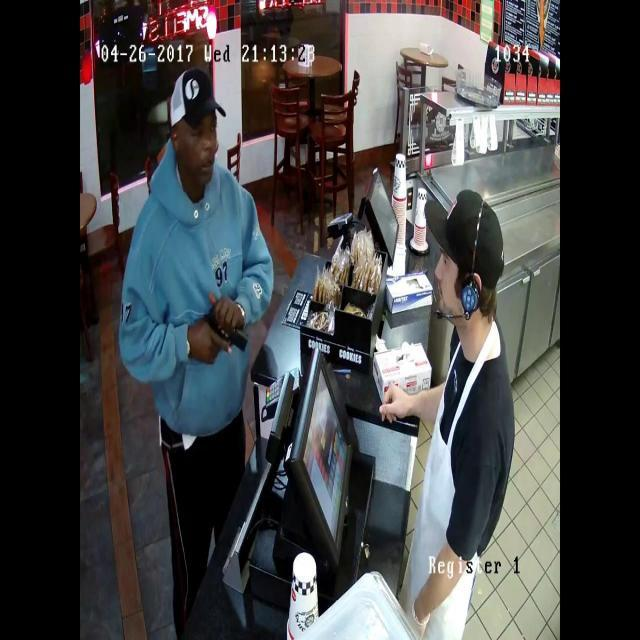weapon: (190, 293, 268, 366)
